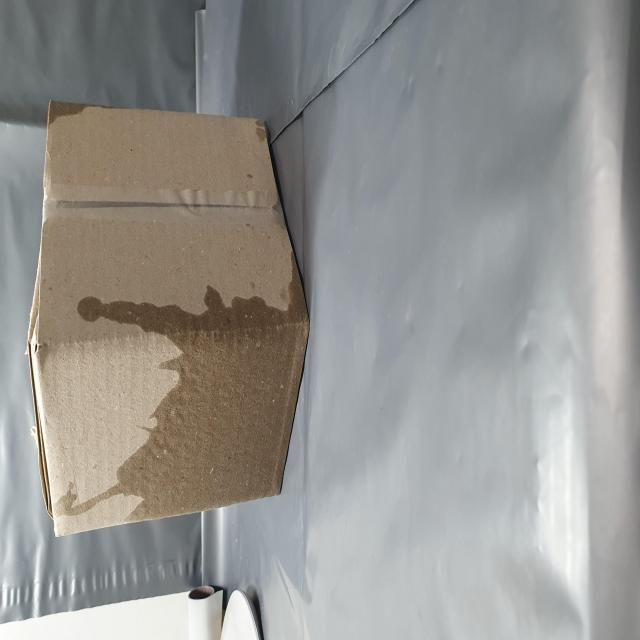wet: (64, 100, 212, 539)
